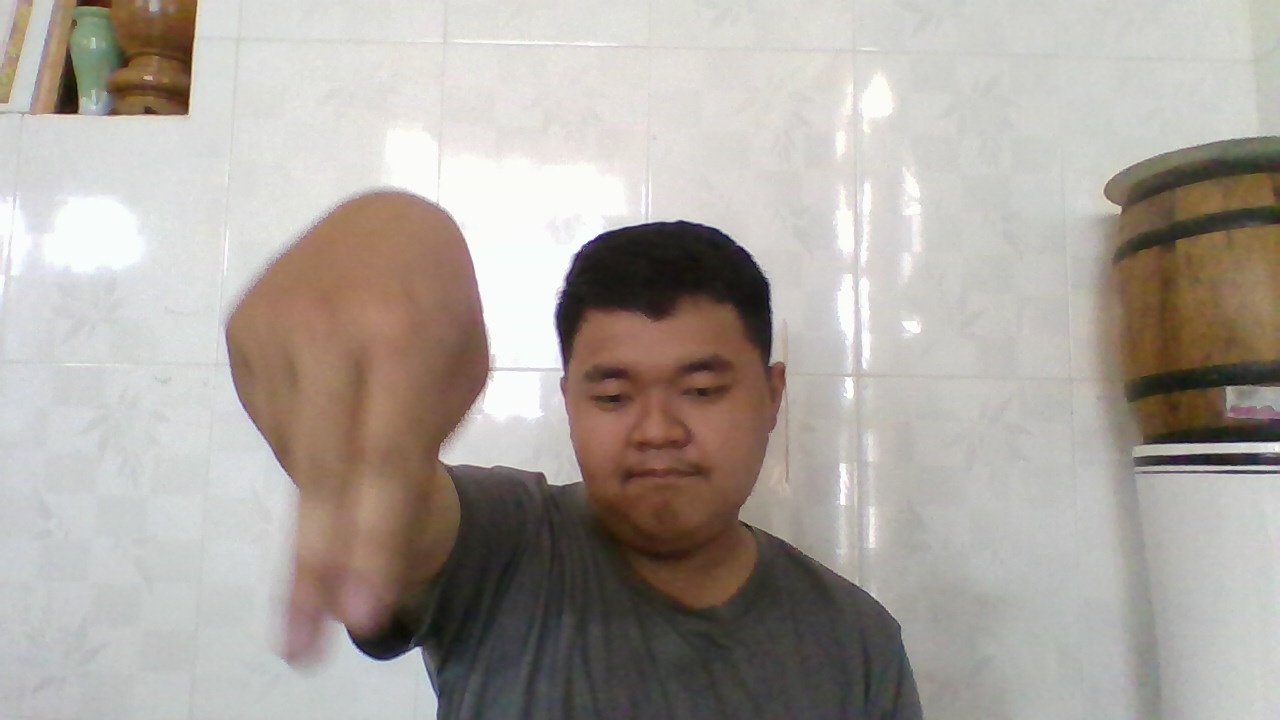N: (217, 200, 491, 646)
